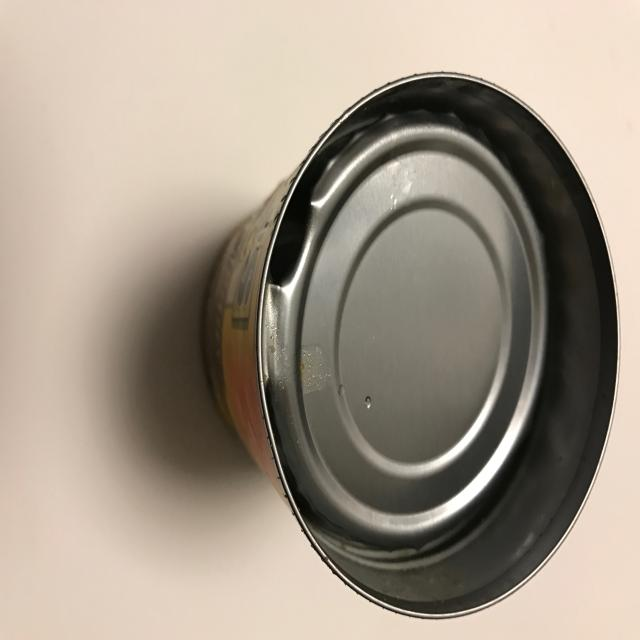metal: (201, 70, 620, 619)
